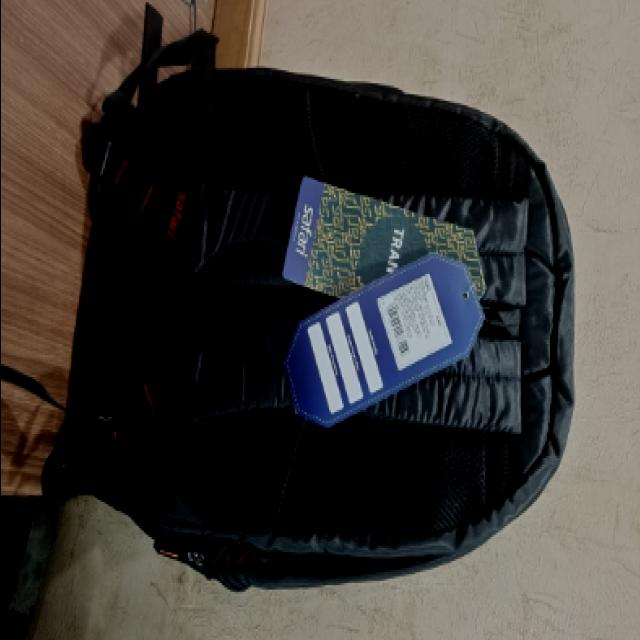backpack: (42, 3, 578, 593)
